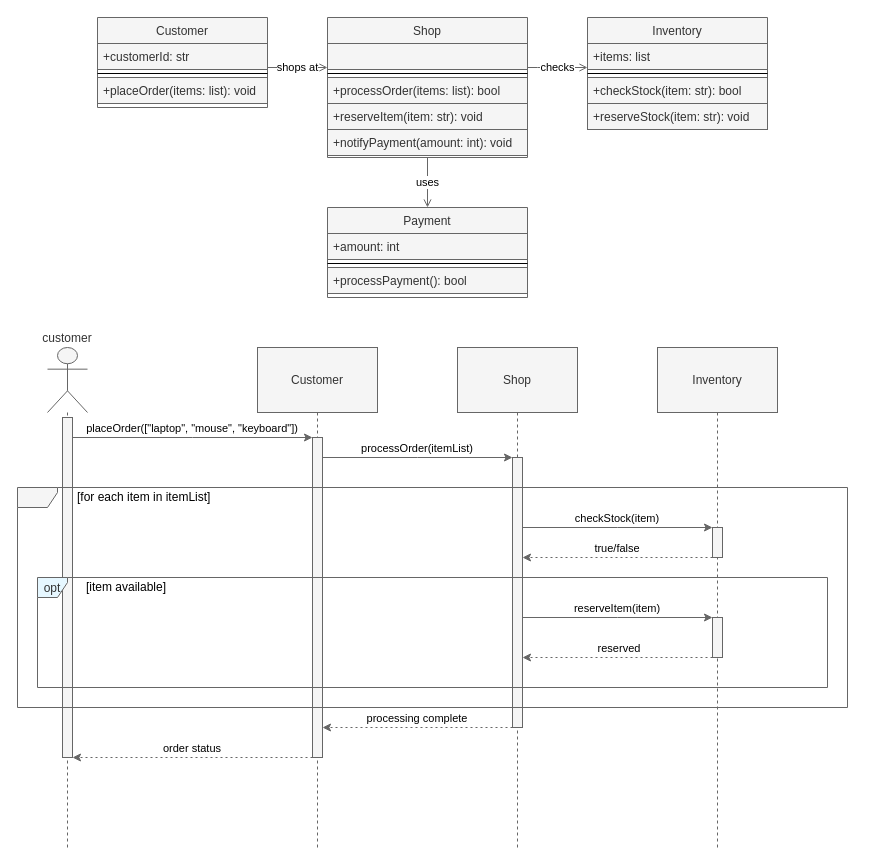
Some shapes in this 875 by 865 pixel diagram are drawn without their labels. Here are the shapes that lost their labels. From the top down, the box of each, then its label:
(326, 42, 528, 70): +name: str
(16, 486, 848, 708): loop
